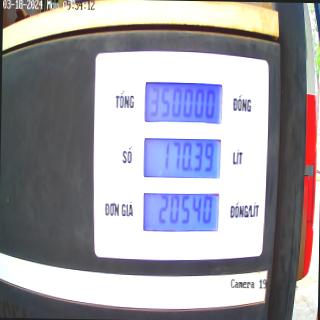screen: (140, 77, 224, 234)
